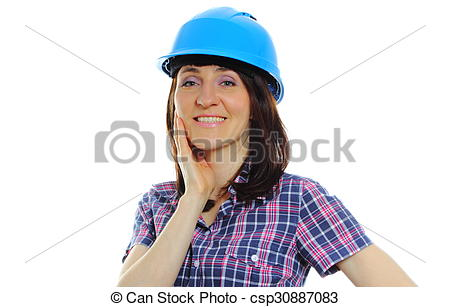Person_wearing_helmet: (157, 1, 287, 105)
